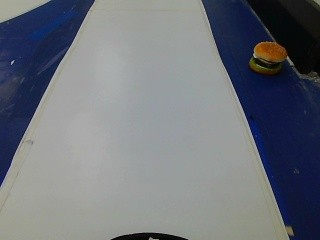burger: (247, 36, 291, 77)
